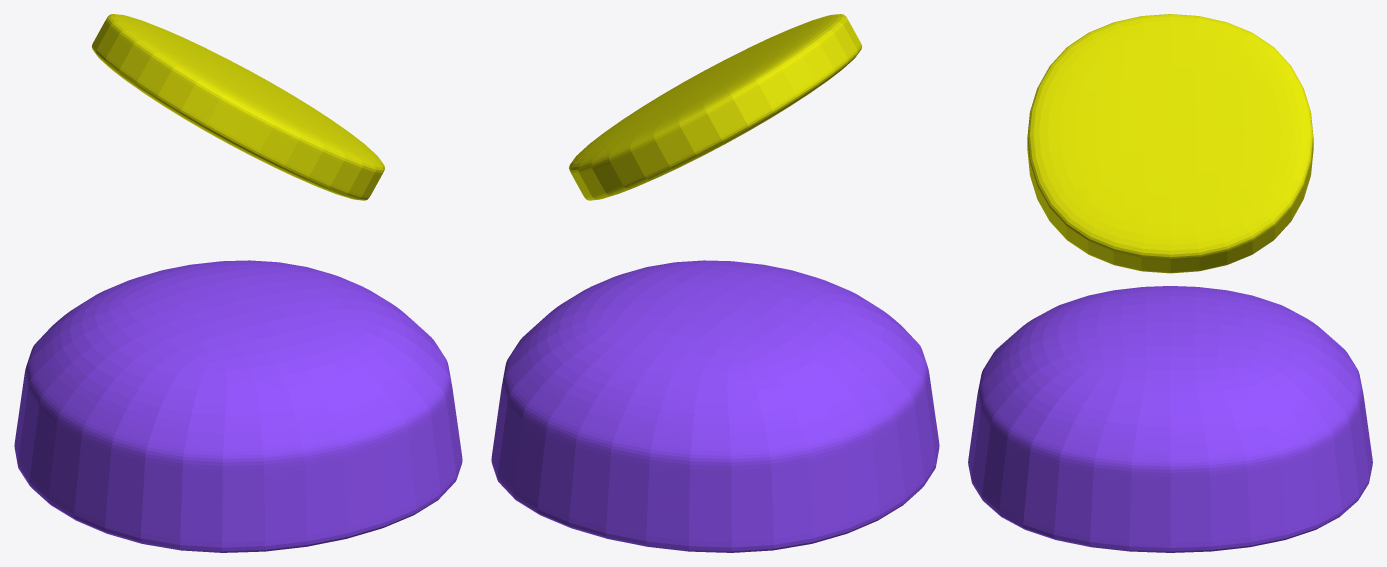
File: Chess_Monet.fbx
3 renders of one model, left to right at view 1: azimuth 30°, elevation 25°; view 2: azimuth 150°, elevation 25°; view 3: azimuth 270°, elevation 25°, orthographic. The views are drawn at different scales.
Parts seen in each view (by area): view 1: Cube; view 2: Cube; view 3: Cube.
Part boxes in pixels (left/top/right/bottom): Cube: left=14, top=14, right=462, bottom=552; Cube: left=491, top=14, right=939, bottom=552; Cube: left=968, top=14, right=1372, bottom=552.
Bounding box in the file's own units: 89.87 × 101 × 89.87.
